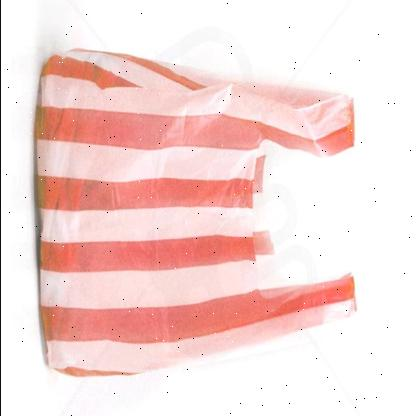Others: (23, 53, 362, 380)
